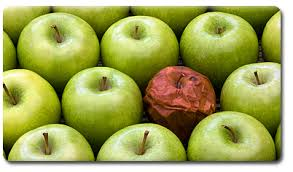apple: (20, 17, 96, 71), (66, 72, 135, 127), (183, 17, 258, 67), (103, 122, 184, 164), (107, 19, 173, 70), (193, 118, 272, 160), (219, 66, 281, 115), (5, 72, 57, 126), (10, 130, 90, 162)
damaged_apple: (150, 65, 215, 124)
